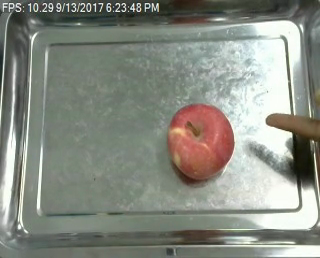Apple: (163, 99, 237, 183)
